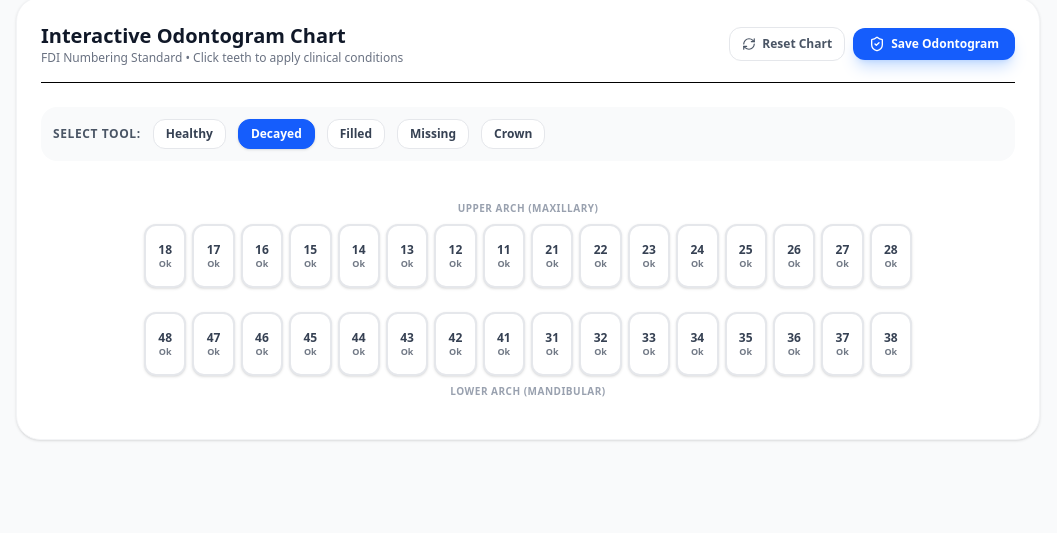
Test: OdontogramCanvas (FR-EMR / TR-EMR-002) › applies the active condition to a clicked tooth and shows the inspector
Later steps or results of the test are not shown.
Expected: the text "Upper Arch (Maxillary)" is shown, [458,201,598,215]
Click the button "11 ok" at (504, 256), box [483,224,525,288]
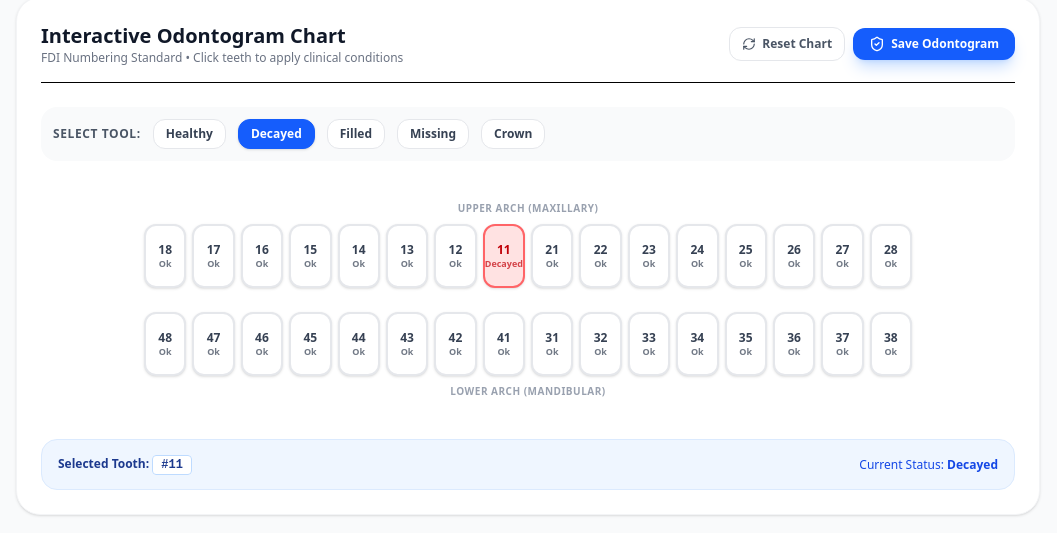
Expected: the text "#11" is shown, [152,455,192,475]
